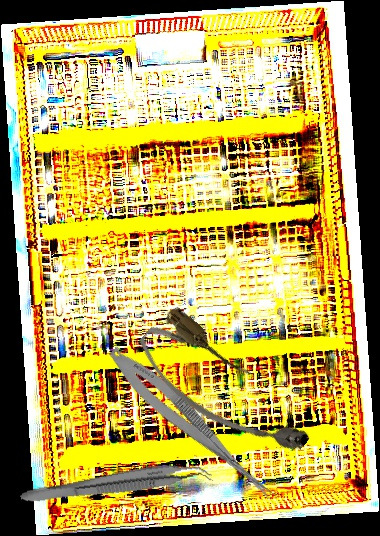Cannula: (128, 302, 319, 480)
Micro Scissor: (101, 341, 288, 509)
Tissue Forceps: (19, 456, 213, 515)
